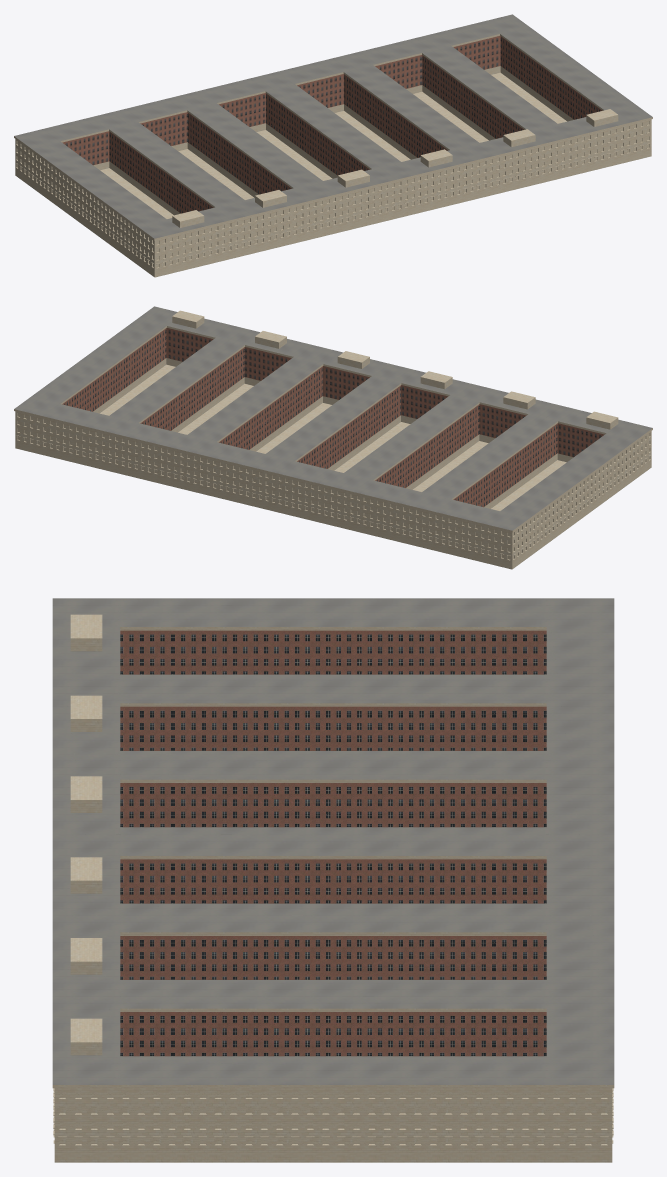
Rendered from usda_south.glb.
The picture shows the model from 3 angles, top to bottom: view 1: azimuth 30°, elevation 25°; view 2: azimuth 150°, elevation 25°; view 3: azimuth 270°, elevation 25°; orthographic projection. The views are drawn at different scales.
Parts seen in each view (by area): view 1: usda_south; view 2: usda_south; view 3: usda_south.
Part boxes in pixels (x1,y1,x2,y2): usda_south: [14, 14, 652, 277]; usda_south: [14, 306, 652, 569]; usda_south: [52, 598, 614, 1162].
Bounding box in the file's own units: 289 × 25.4 × 141.
Materials: 4 (4 with a texture image).
